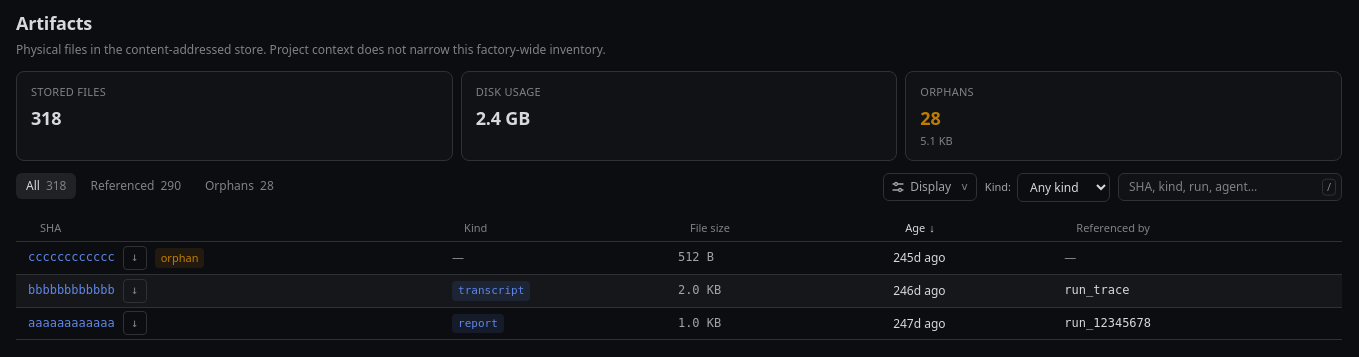
it: Artifacts inventory (WM-207) › filters by kind and orphan status facets
Expected: the link "aaaaaaaaaaaa" is shown, [28,315,115,332]
Select "report" in the dropdown named "Artifact kind" at (1064, 188), box [1017,173,1110,202]
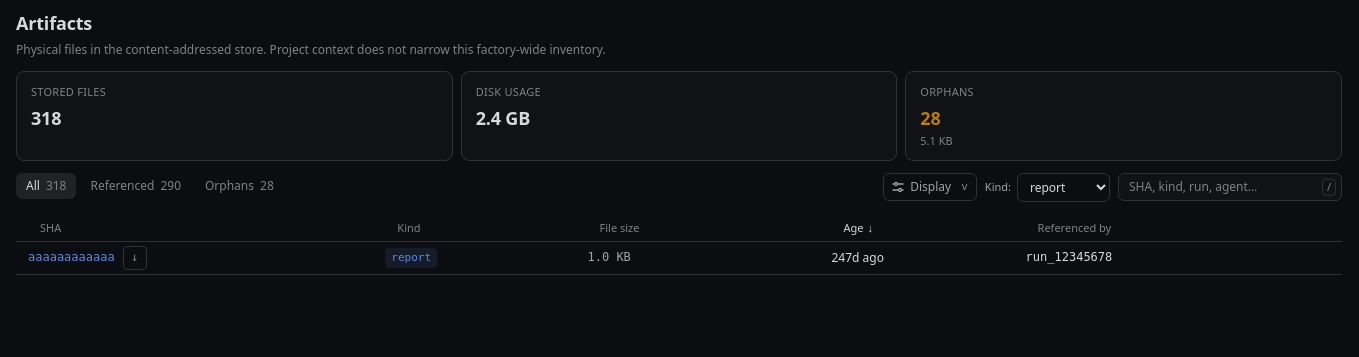
Expected: the link "aaaaaaaaaaaa" is shown, [28,249,115,266]
Now the link "bbbbbbbbbbbb" is gone
Select "Any kind" in the dropdown named "Artifact kind" at (1064, 188), box [1017,173,1110,202]
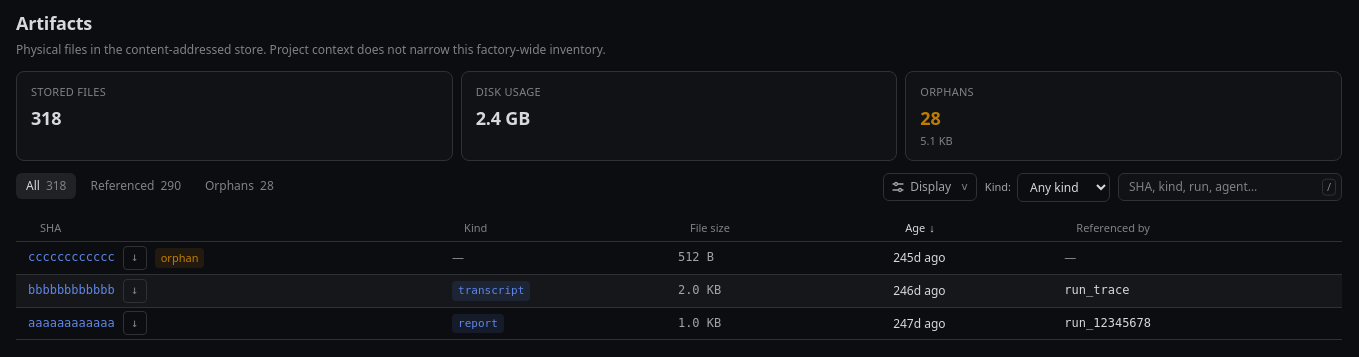
Click the tab named "Orphans 28" at (239, 186), box [195,173,284,199]
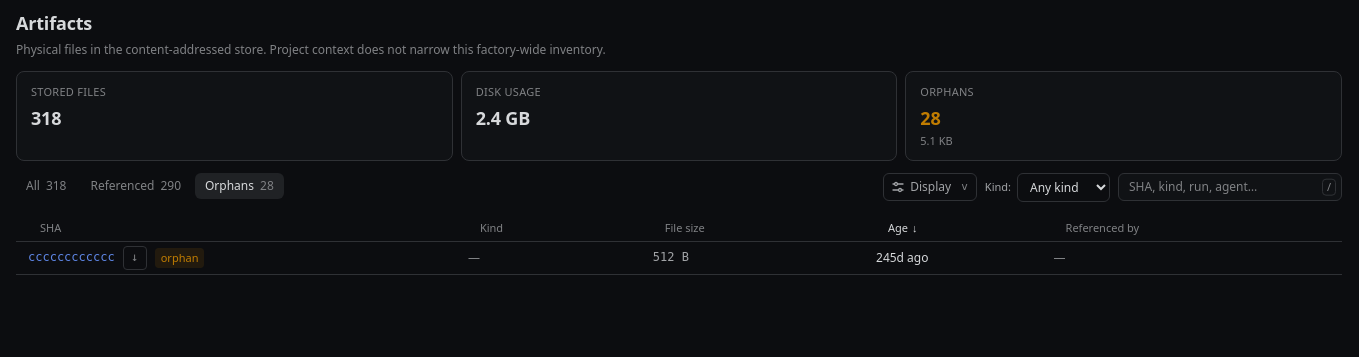
Now the link "cccccccccccc" is shown, box [28,249,115,266]
Now the link "aaaaaaaaaaaa" is gone
